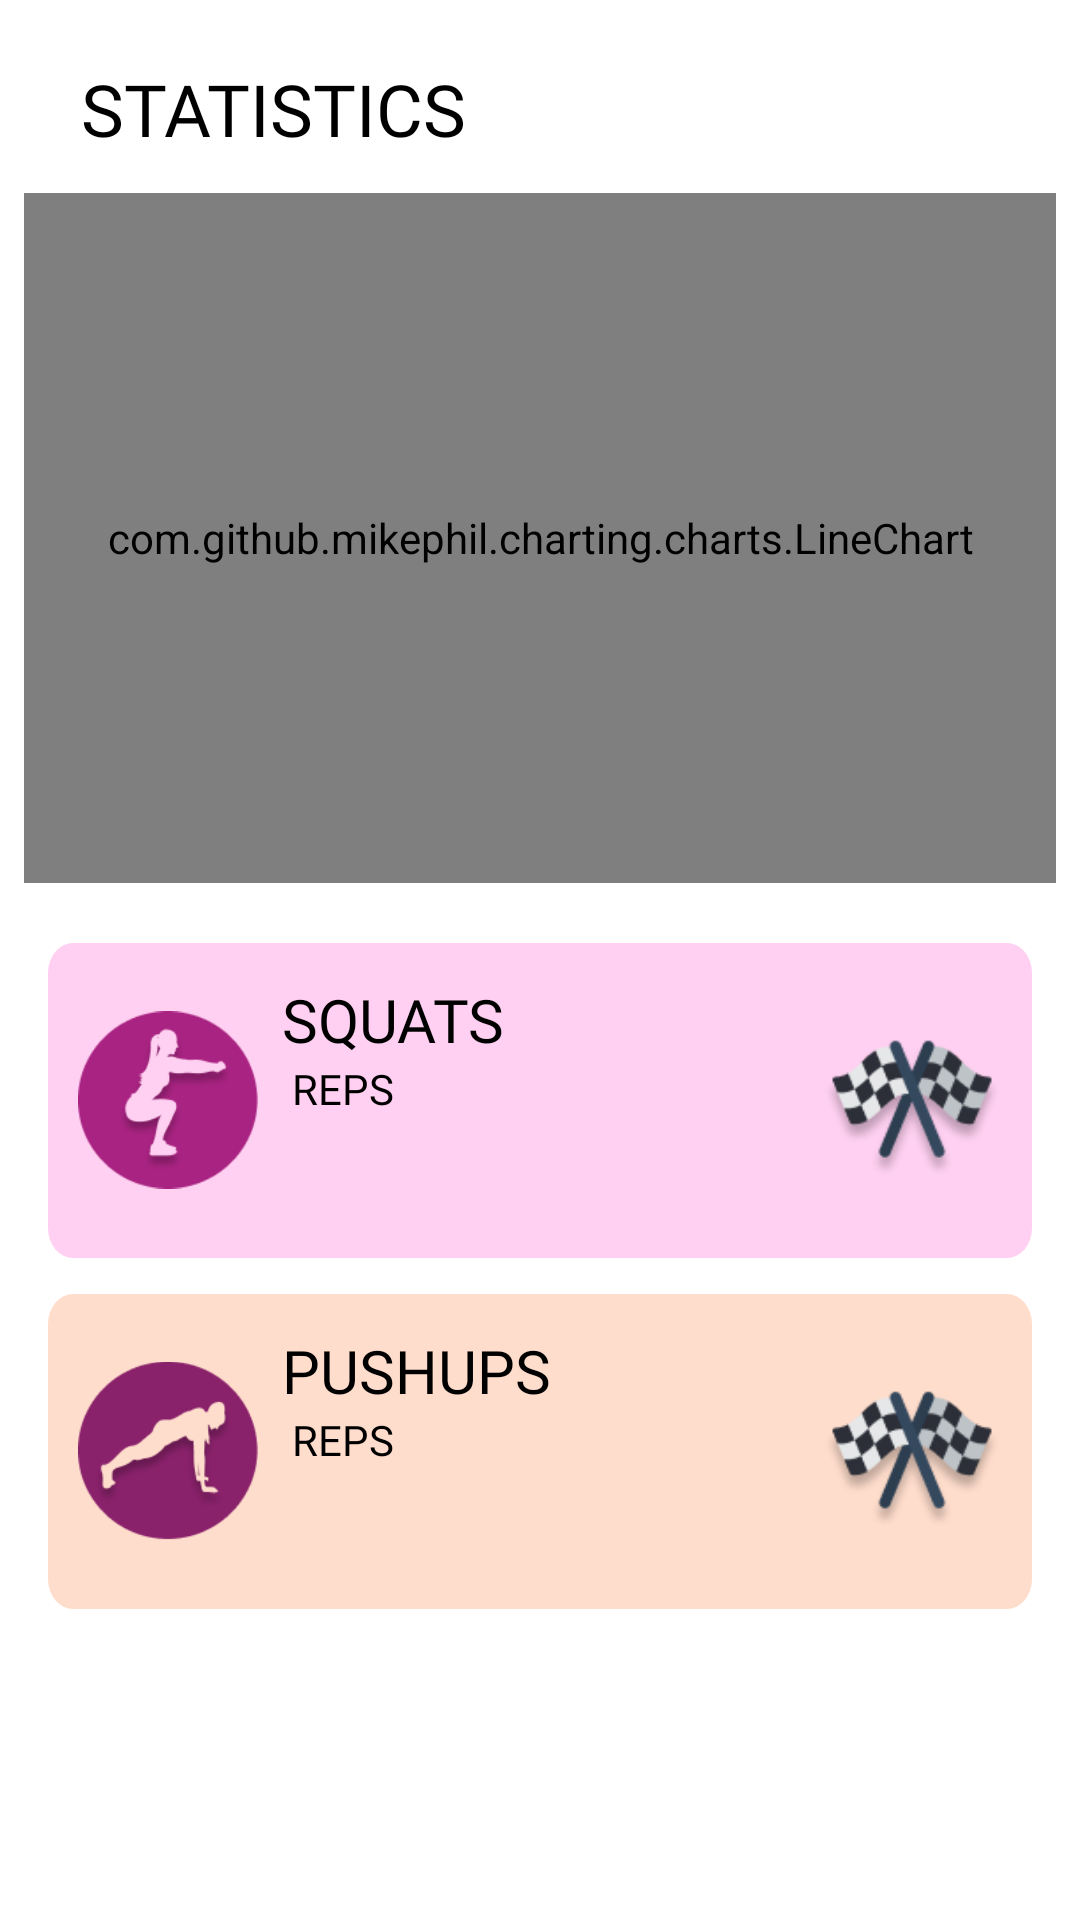

Screen size 1080px×1920px. Icon name, then its center in pixels as [x,y]:
racing flag: [912,1103], [912,1454]
